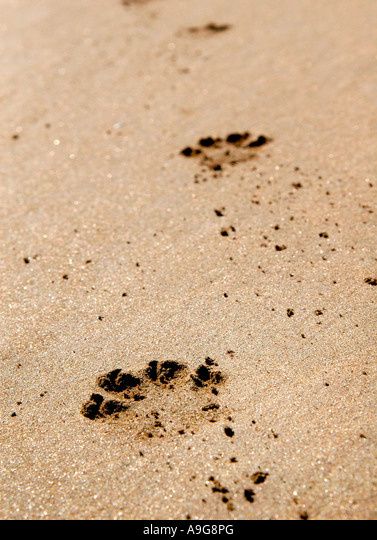chien: (80, 354, 232, 447)
